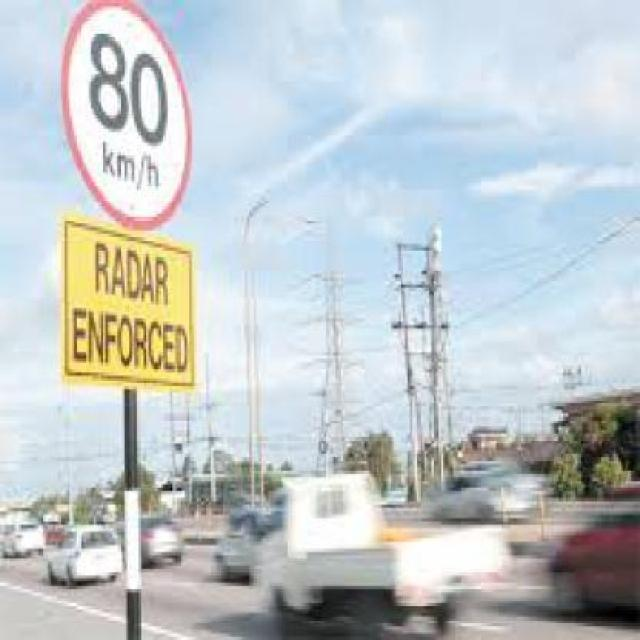forb_speed_over_80: (59, 2, 196, 223)
